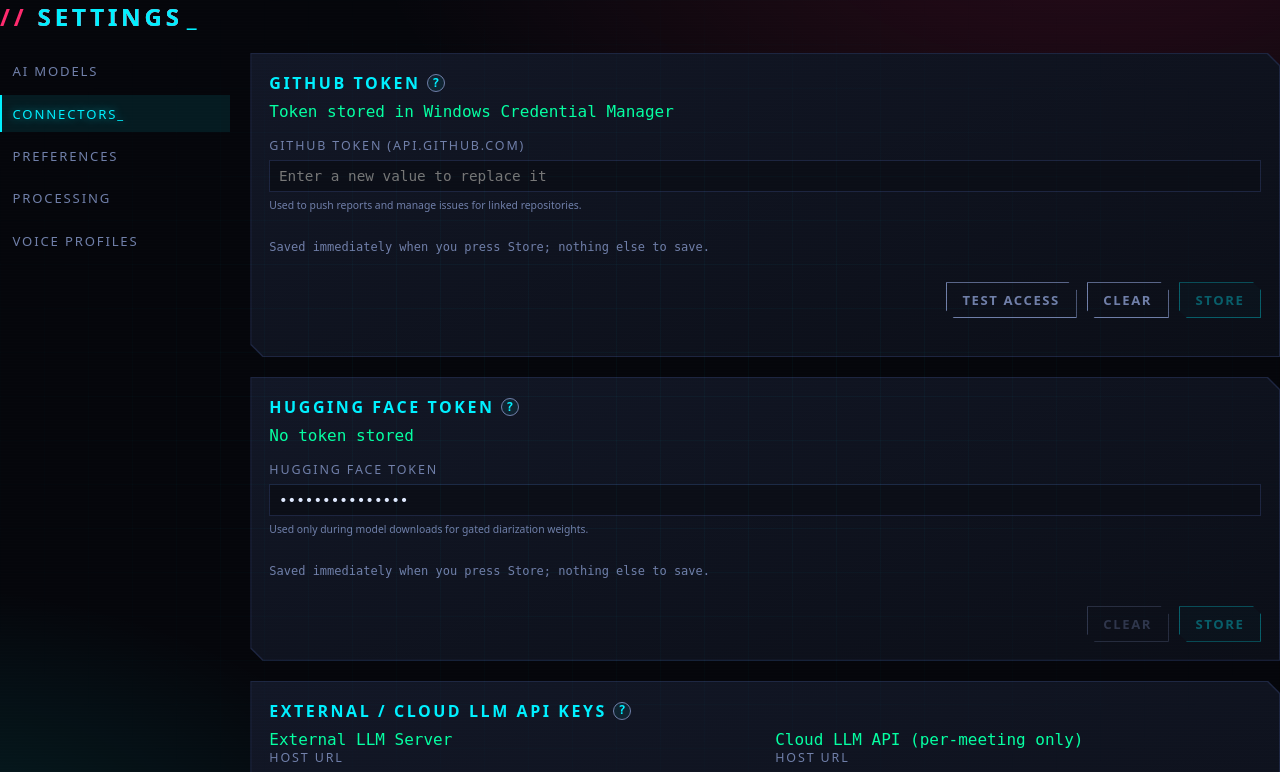
Scenario: Connectors tab unsaved-change guard › asks before leaving with a typed but unstored token, and Save stores it
expect the text with test id "secret-hint" below "GitHub Token (api.github.com)" shows "Saved immediately": met, box [269,240,710,254]
Step 1. Type "hf_exampletoken" into the 2nd password field → [765, 500], box [269,484,1261,516]
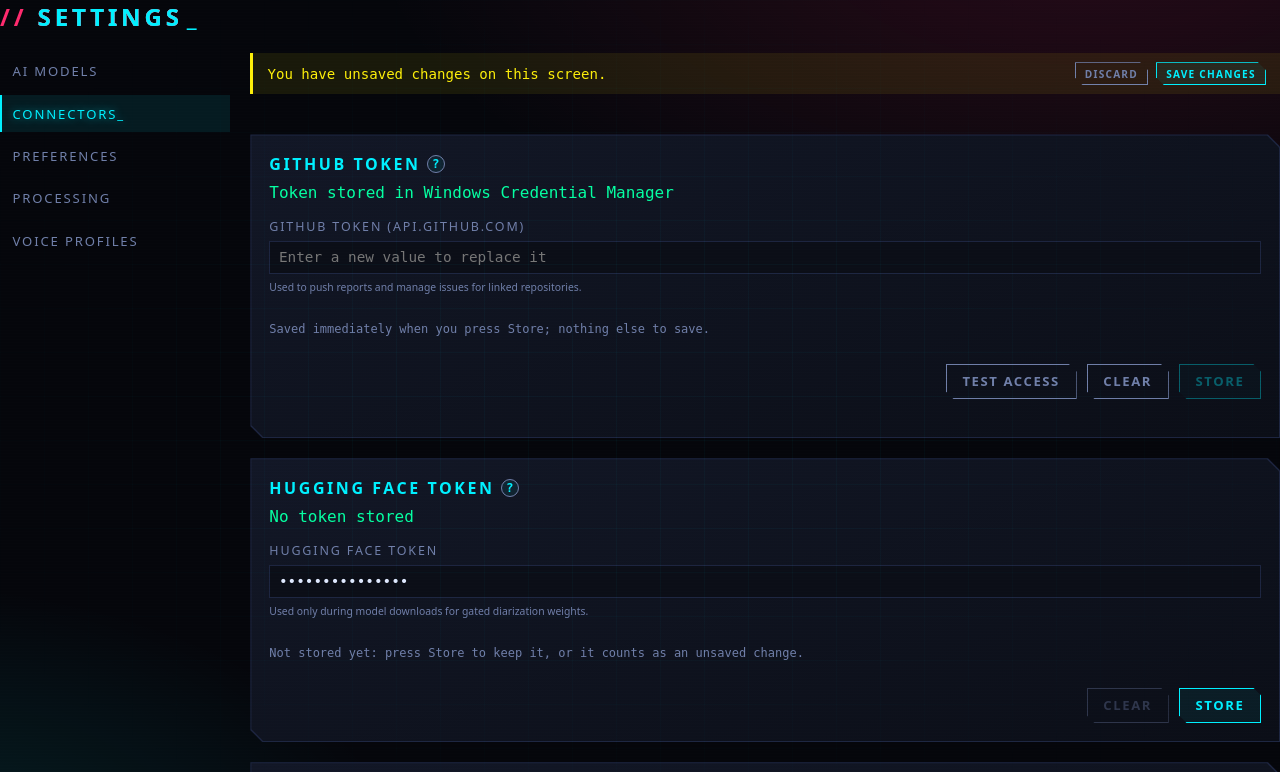
expect the text "Not stored yet" is shown: met, box [269,646,804,660]
Step 2. Click the tab "Preferences" → [115, 156], box [0,138,230,174]
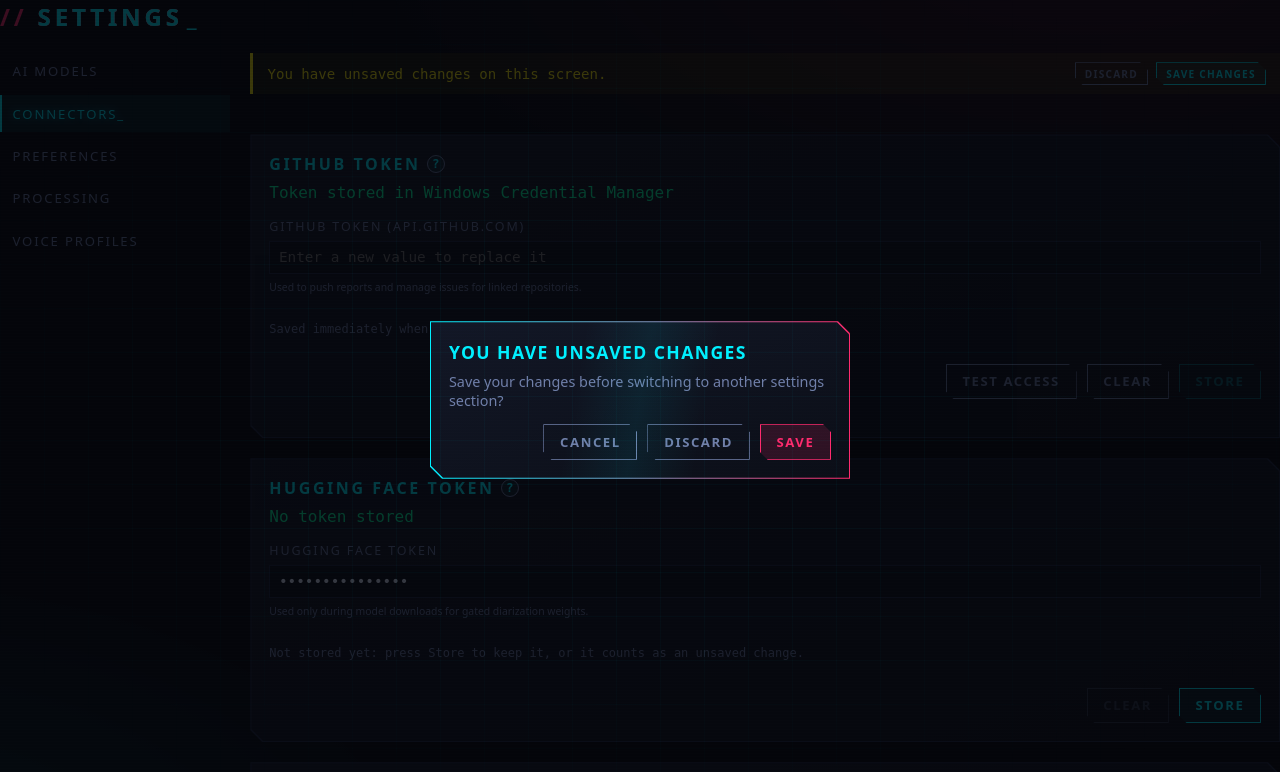
expect the dialog is shown: met, box [430,321,850,479]
Step 3. Click the button "Save" → [795, 442], box [760,424,831,460]
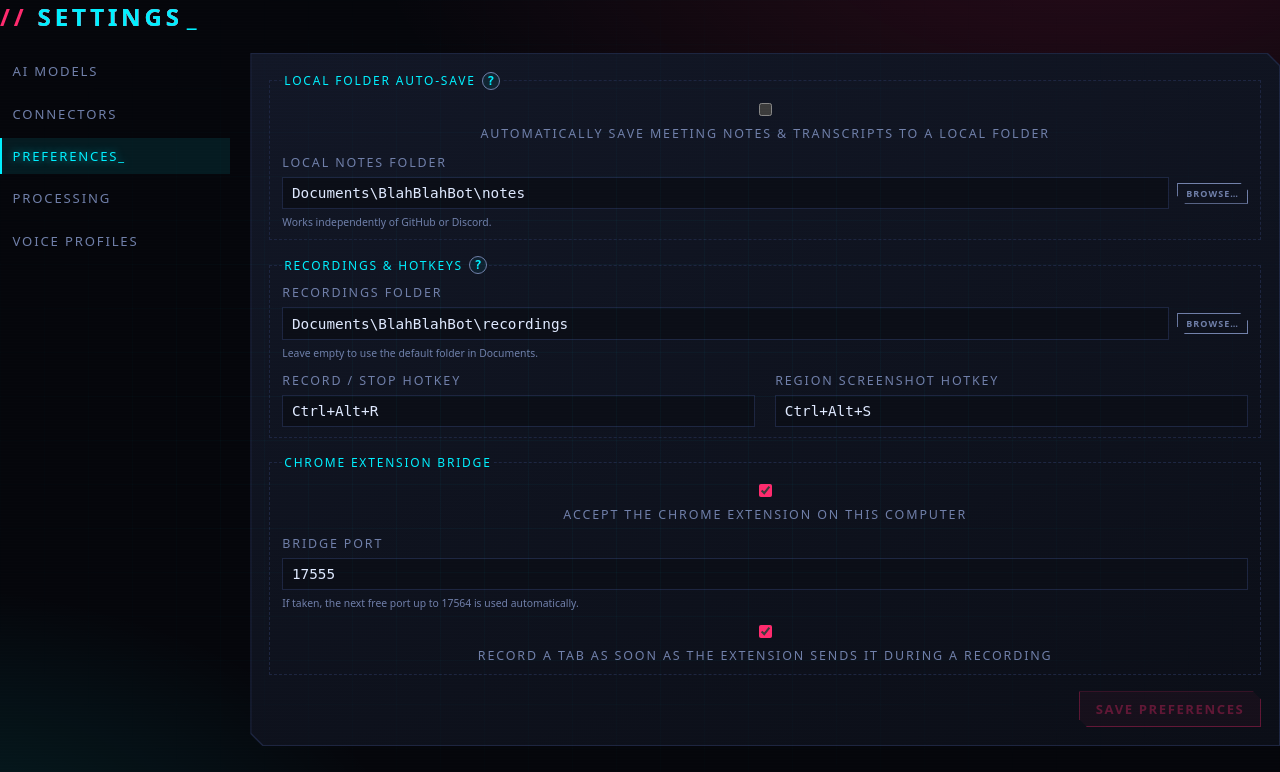
expect the dialog is gone: met
